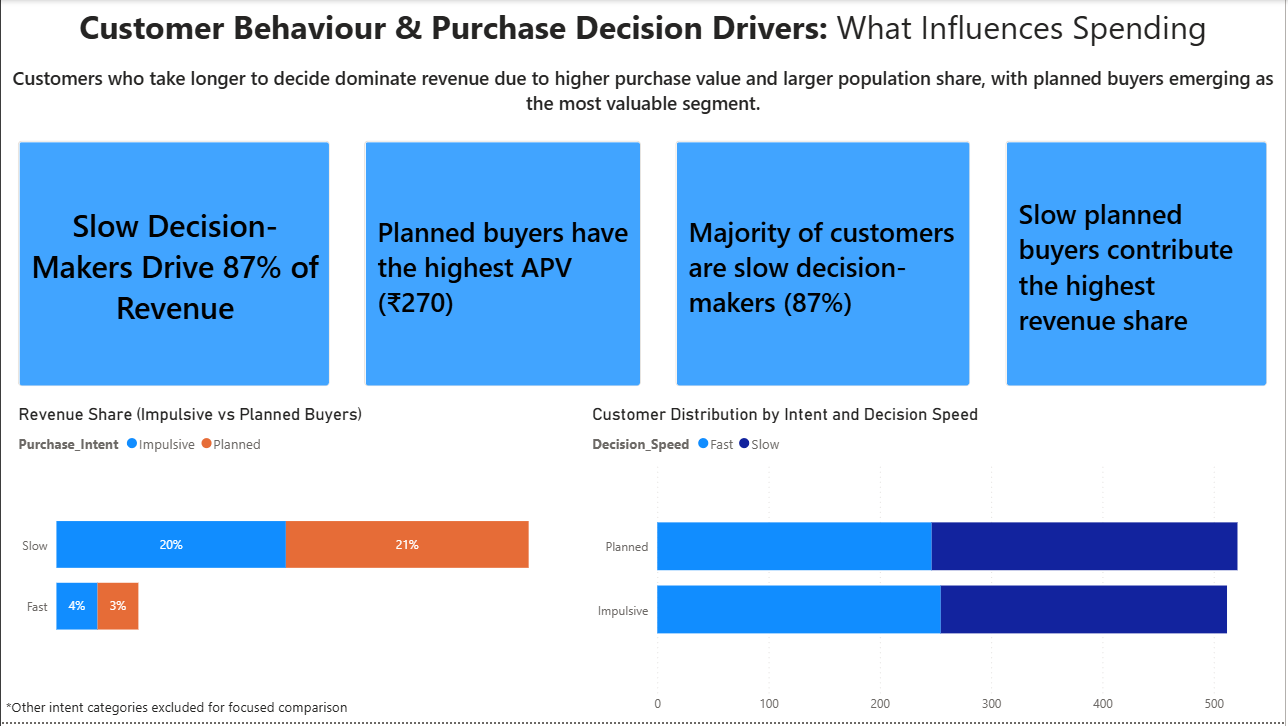

The dashboard page shown, as its layout file describes it:
{"tool":"powerbi","page":{"name":"Customer Behaviour","canvas":[1280,720],"ordinal":1},"visuals":[{"type":"barChart","title":"Customer Distribution by Intent and Decision Speed","fields":{"Category":["ecommerce_cleaned.Purchase_Intent"],"Y":["ecommerce_cleaned.APV"],"Series":["ecommerce_cleaned.Decision_Speed"]},"box":[584.9,402.2,695.3,317.2],"z":0},{"type":"barChart","title":"Revenue Share (Impulsive vs Planned Buyers)","fields":{"Category":["ecommerce_cleaned.Decision_Speed"],"Y":["ecommerce_cleaned.Revenue Contribution %"],"Series":["ecommerce_cleaned.Purchase_Intent"]},"box":[12.7,402.2,572.2,288],"z":1000},{"type":"textbox","box":[0,0,1280.3,123.1],"z":2000},{"type":"cardVisual","fields":{"Data":["ecommerce_cleaned.Revenue Insight Card"]},"box":[0,123.1,345.1,279.1],"z":3000},{"type":"cardVisual","fields":{"Data":["ecommerce_cleaned.Top Segment Card"]},"box":[345.1,123.1,310.9,279.1],"z":4000},{"type":"cardVisual","fields":{"Data":["ecommerce_cleaned.Customer Insight Card"]},"box":[656,123.1,328.6,279.1],"z":5000},{"type":"textbox","box":[0,690.2,411.1,29.2],"z":6000},{"type":"cardVisual","fields":{"Data":["ecommerce_cleaned.Buyer Insight Card"]},"box":[984.6,123.1,295.6,279.1],"z":7000}]}

Visuals, with their boxes in screenshot pixels (x1, y1, x2, y2), scaled from the page's 1280x720 canvas onto the 1288x726 screenshot:
"Customer Distribution by Intent and Decision Speed" barChart: pyautogui.locateOnScreen(589, 406, 1287, 725)
"Revenue Share (Impulsive vs Planned Buyers)" barChart: pyautogui.locateOnScreen(13, 406, 589, 696)
textbox: pyautogui.locateOnScreen(0, 0, 1287, 124)
cardVisual - ecommerce_cleaned.Revenue Insight Card: pyautogui.locateOnScreen(0, 124, 347, 406)
cardVisual - ecommerce_cleaned.Top Segment Card: pyautogui.locateOnScreen(347, 124, 660, 406)
cardVisual - ecommerce_cleaned.Customer Insight Card: pyautogui.locateOnScreen(660, 124, 991, 406)
textbox: pyautogui.locateOnScreen(0, 696, 414, 725)
cardVisual - ecommerce_cleaned.Buyer Insight Card: pyautogui.locateOnScreen(991, 124, 1287, 406)
